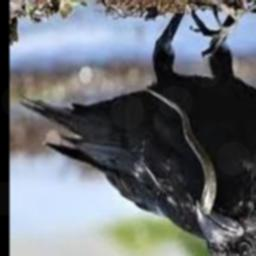Crow: (17, 10, 256, 256)
